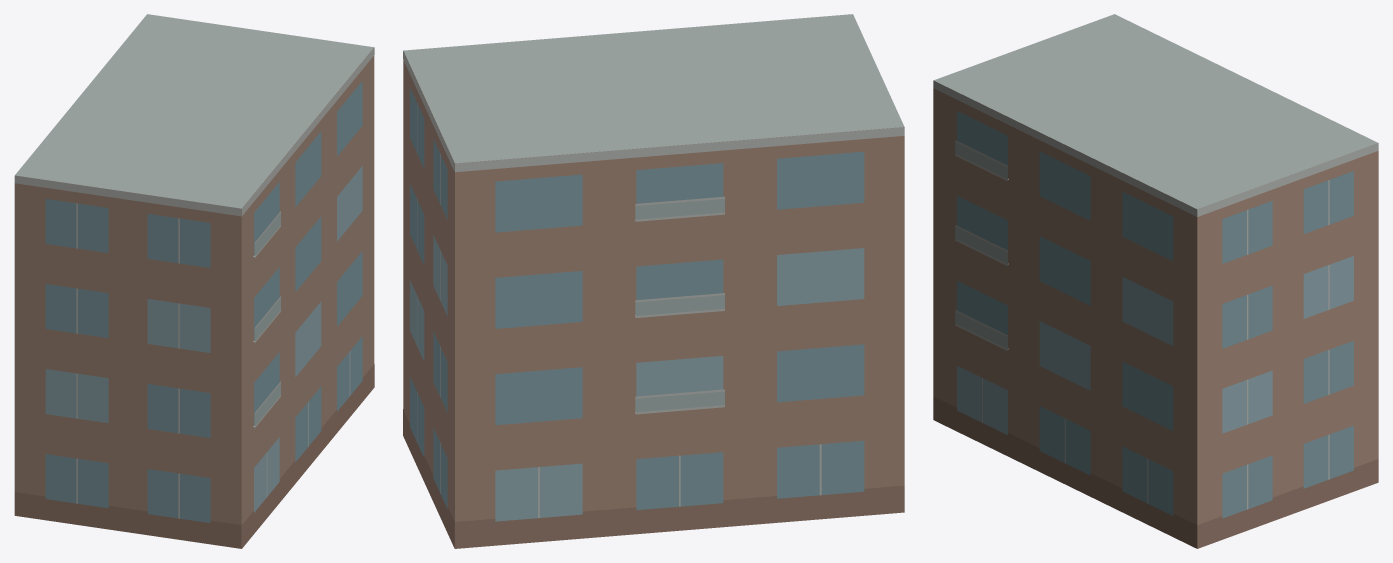
File: survey-upis-33022588.glb
The picture shows the model from 3 angles, left to right: view 1: azimuth 30°, elevation 25°; view 2: azimuth 150°, elevation 25°; view 3: azimuth 270°, elevation 25°; orthographic projection. The views are drawn at different scales.
Visible parts, largest first — view 1: survey-upis-33022588.tmp; view 2: survey-upis-33022588.tmp; view 3: survey-upis-33022588.tmp.
Boxes of the visible parts, x1,y1,x2,y2 form: survey-upis-33022588.tmp: [14, 14, 374, 548]; survey-upis-33022588.tmp: [403, 14, 904, 548]; survey-upis-33022588.tmp: [933, 14, 1378, 548].
Size of the model in its own units: 13.21 by 10.7 by 12.72.
